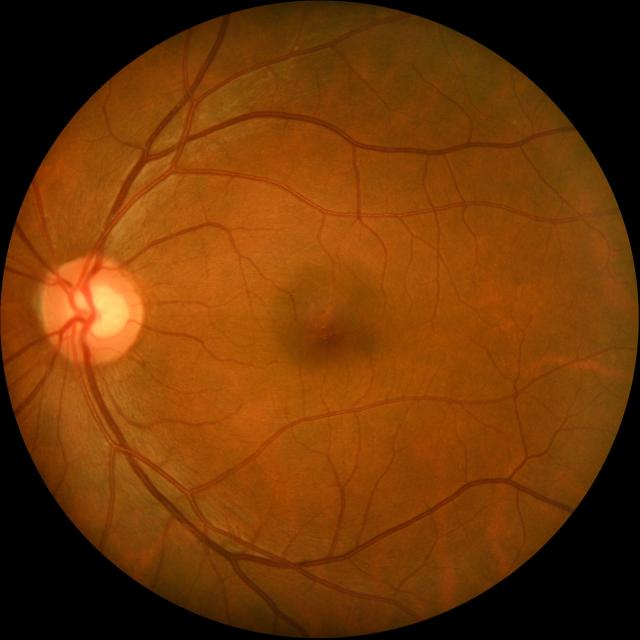OC: (72, 284, 126, 338)
OD: (39, 258, 143, 362)
